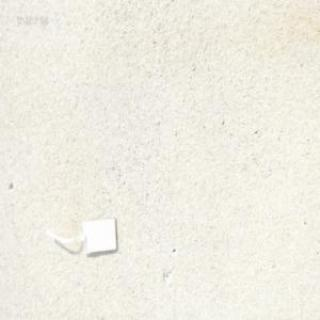LuggageTagtrack_idkeyframe: (47, 212, 121, 256)
